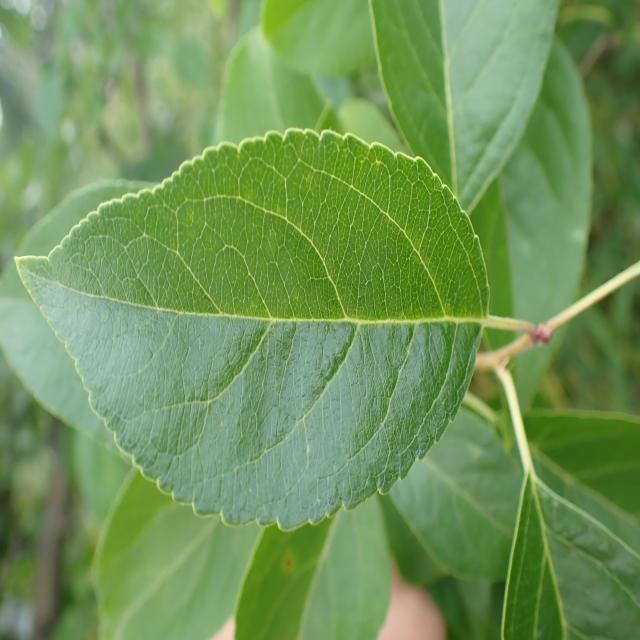healthy: (15, 126, 491, 532), (368, 0, 560, 215), (501, 407, 640, 639), (388, 398, 525, 582), (234, 491, 392, 640)
